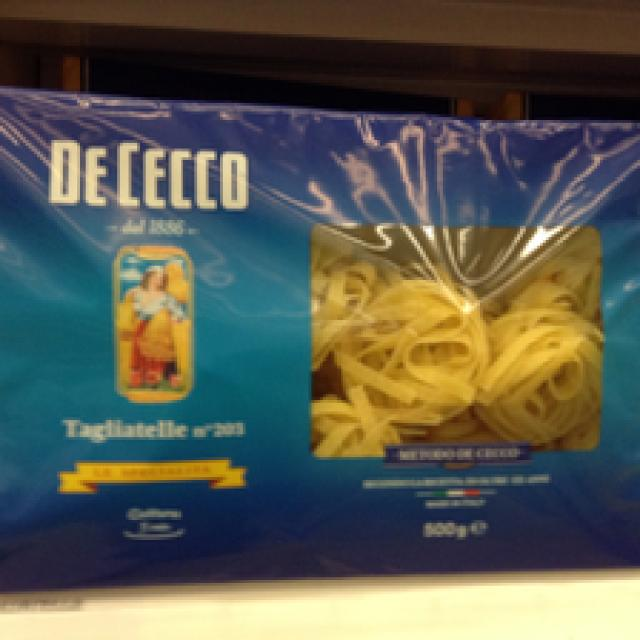groceries: (0, 85, 637, 586)
